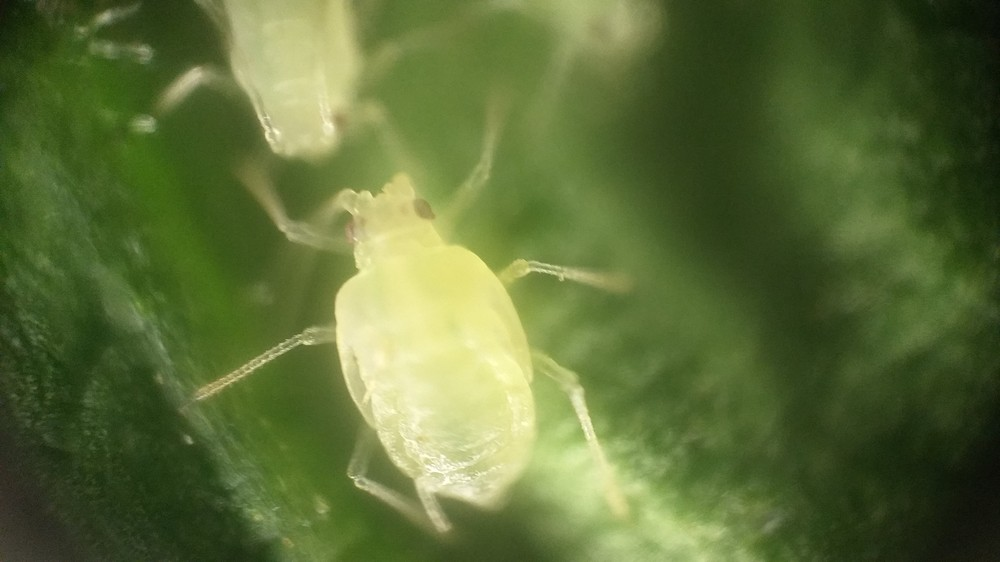Pulgon: (226, 162, 689, 544), (155, 1, 415, 158)
